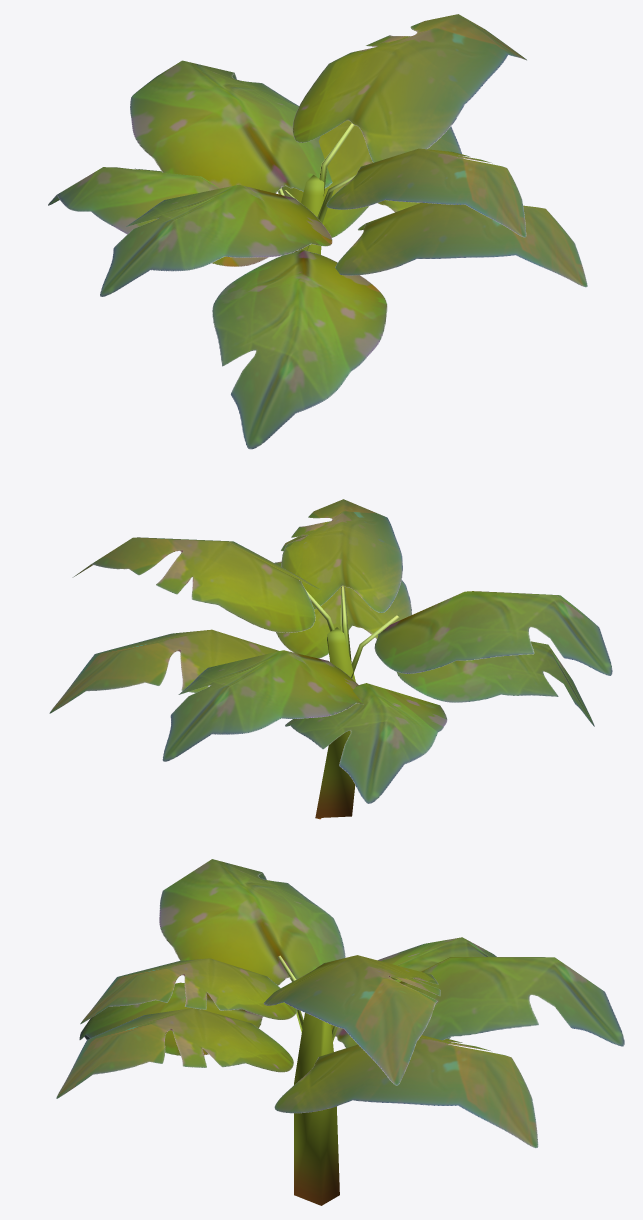
Rendered from Sm_Plant01.fbx.
3 views of the same model, one above another, from view 1: azimuth 30°, elevation 25°; view 2: azimuth 150°, elevation 25°; view 3: azimuth 270°, elevation 25° (orthographic). The views are drawn at different scales.
Parts seen in each view (by area): view 1: Plane.057; view 2: Plane.057; view 3: Plane.057.
Boxes of the visible parts, bbox=[...] form: Plane.057: bbox=[48, 14, 587, 449]; Plane.057: bbox=[49, 499, 612, 819]; Plane.057: bbox=[56, 859, 624, 1205].
Size of the model in its own units: 349 by 180 by 343.
